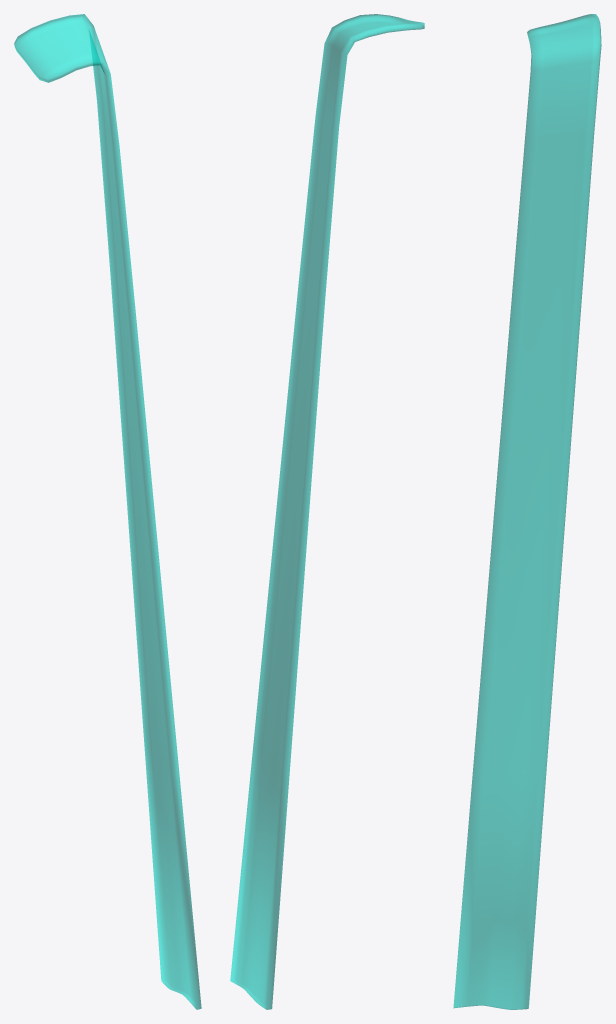
Rendered from water 2.fbx.
The picture shows the model from 3 angles, left to right: view 1: azimuth 30°, elevation 25°; view 2: azimuth 210°, elevation 25°; view 3: azimuth 270°, elevation 25°; orthographic projection. The views are drawn at different scales.
Parts seen in each view (by area): view 1: Plane.015; view 2: Plane.015; view 3: Plane.015.
Boxes of the visible parts, x1,y1,x2,y2 form: Plane.015: [14, 14, 201, 1009]; Plane.015: [230, 14, 424, 1009]; Plane.015: [453, 14, 601, 1009].
Bounding box in the file's own units: 0.393 × 2.93 × 0.4155.
